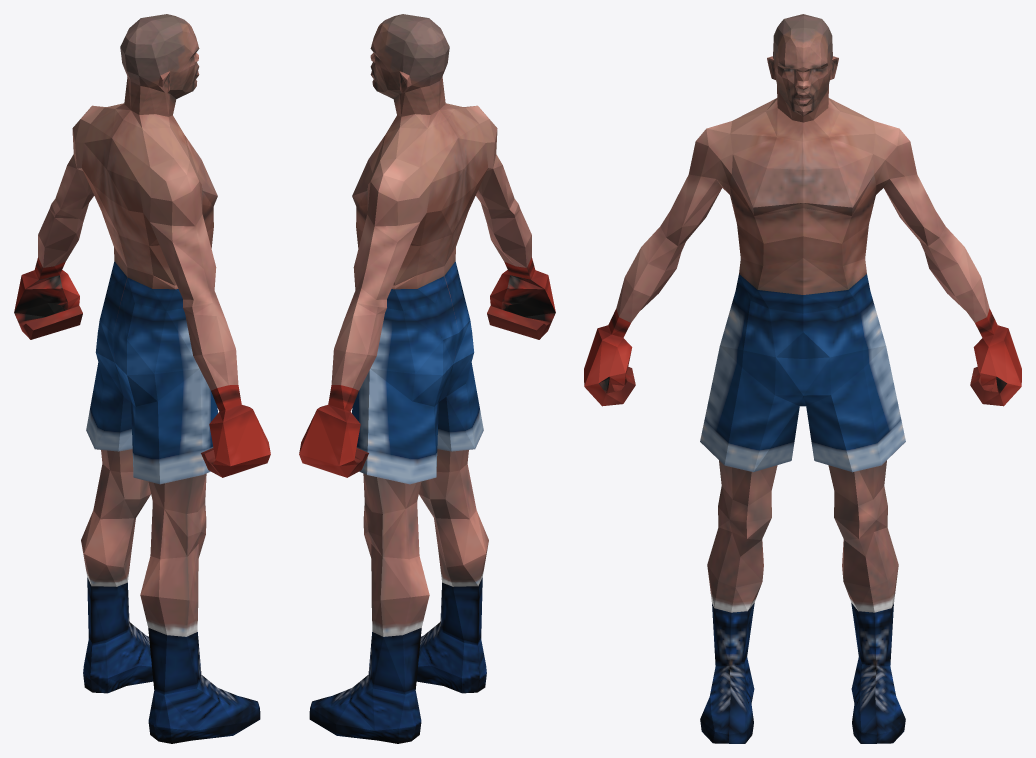
The model's file is vwmybox.obj.
3 views of the same model, side by side, from view 1: azimuth 30°, elevation 25°; view 2: azimuth 150°, elevation 25°; view 3: azimuth 270°, elevation 25° (orthographic).
Visible parts, largest first — view 1: _Pelvis; view 2: _Pelvis; view 3: _Pelvis.
Part boxes in pixels (left/top/right/bottom): _Pelvis: left=14, top=14, right=270, bottom=743; _Pelvis: left=299, top=14, right=555, bottom=743; _Pelvis: left=584, top=14, right=1021, bottom=743.
Bounding box in the file's own units: 0.3276 × 1.83 × 1.04.
Materials: 1 (1 with a texture image).
